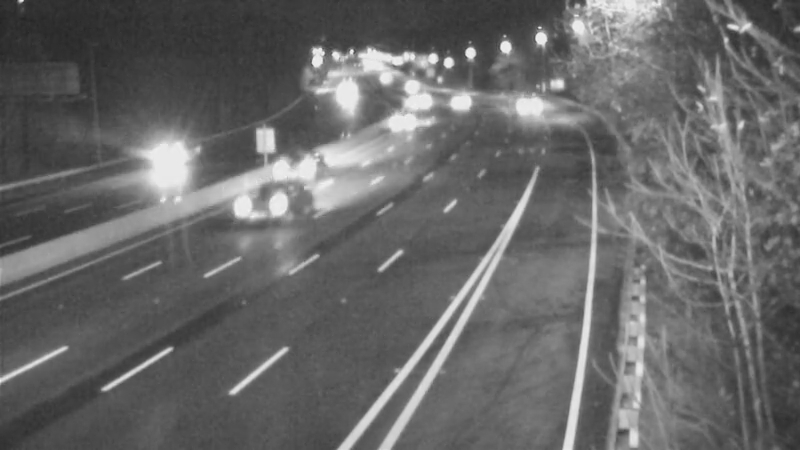vehicle: (255, 128, 335, 208), (218, 162, 298, 242), (119, 126, 199, 206), (360, 53, 410, 103), (382, 64, 432, 114), (499, 81, 549, 131), (430, 71, 480, 121), (393, 77, 443, 127), (384, 97, 434, 147), (316, 68, 366, 118)
